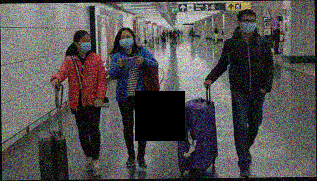with_mask: (240, 17, 257, 34), (119, 34, 135, 51), (78, 37, 92, 53), (278, 25, 281, 31), (170, 29, 173, 33), (191, 28, 194, 31), (170, 30, 172, 33), (177, 29, 179, 31), (163, 31, 164, 34), (181, 29, 182, 32)
without_mask: (216, 26, 218, 29)
